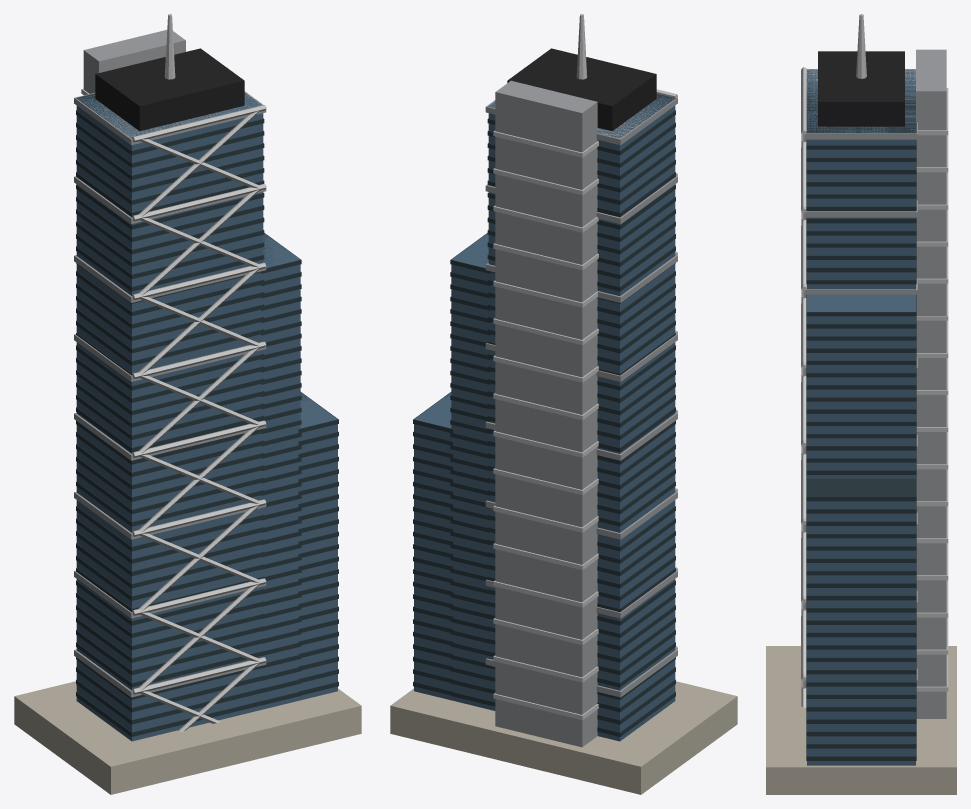
File: heron_tower.glb
The picture shows the model from 3 angles, left to right: view 1: azimuth 30°, elevation 25°; view 2: azimuth 150°, elevation 25°; view 3: azimuth 270°, elevation 25°; orthographic projection.
Parts seen in each view (by area): view 1: heron_tower; view 2: heron_tower; view 3: heron_tower.
Part boxes in pixels (box(x1,y1,x2,y2)): heron_tower: box(14, 14, 361, 794); heron_tower: box(390, 14, 737, 794); heron_tower: box(766, 14, 956, 794).
Size of the model in its own units: 84 by 231 by 56.
